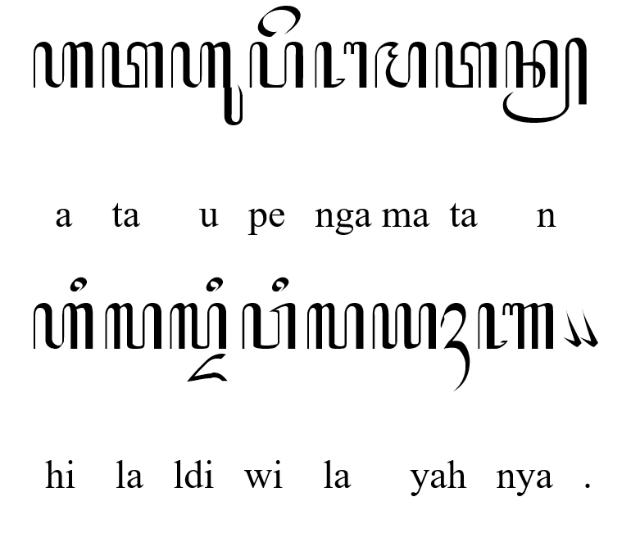_d: (186, 353, 228, 383)
_h1: (440, 302, 470, 394)
e: (257, 6, 301, 38)
h: (32, 302, 94, 350), (32, 42, 94, 88)
hu: (170, 40, 244, 126)
i: (69, 276, 87, 294), (205, 276, 223, 294), (272, 276, 288, 292)
kom: (562, 309, 582, 348), (580, 309, 598, 348)
l: (168, 302, 228, 350), (105, 302, 163, 350), (306, 302, 364, 350)
m: (374, 40, 426, 88)
n: (502, 37, 588, 124)
nga: (314, 41, 368, 89)
ny1: (477, 302, 555, 350)
p: (248, 41, 304, 89)
t: (100, 40, 164, 90), (434, 40, 498, 90)
w: (240, 302, 296, 350)
y: (371, 302, 437, 350)
